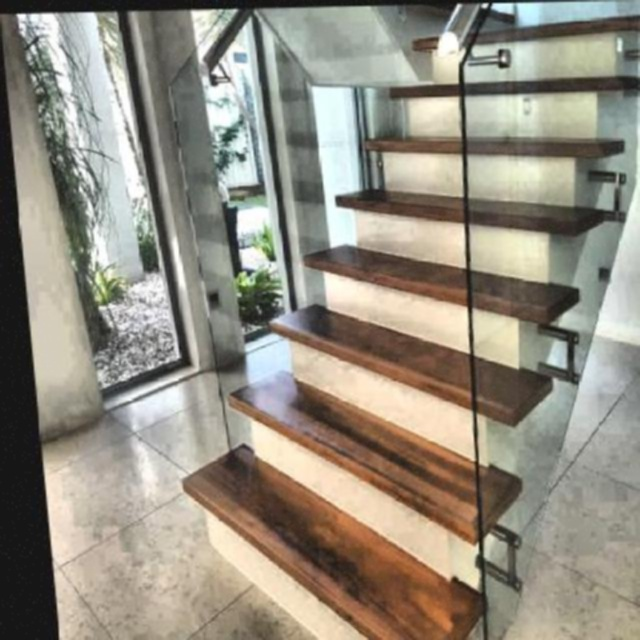stair: (136, 0, 640, 638)
